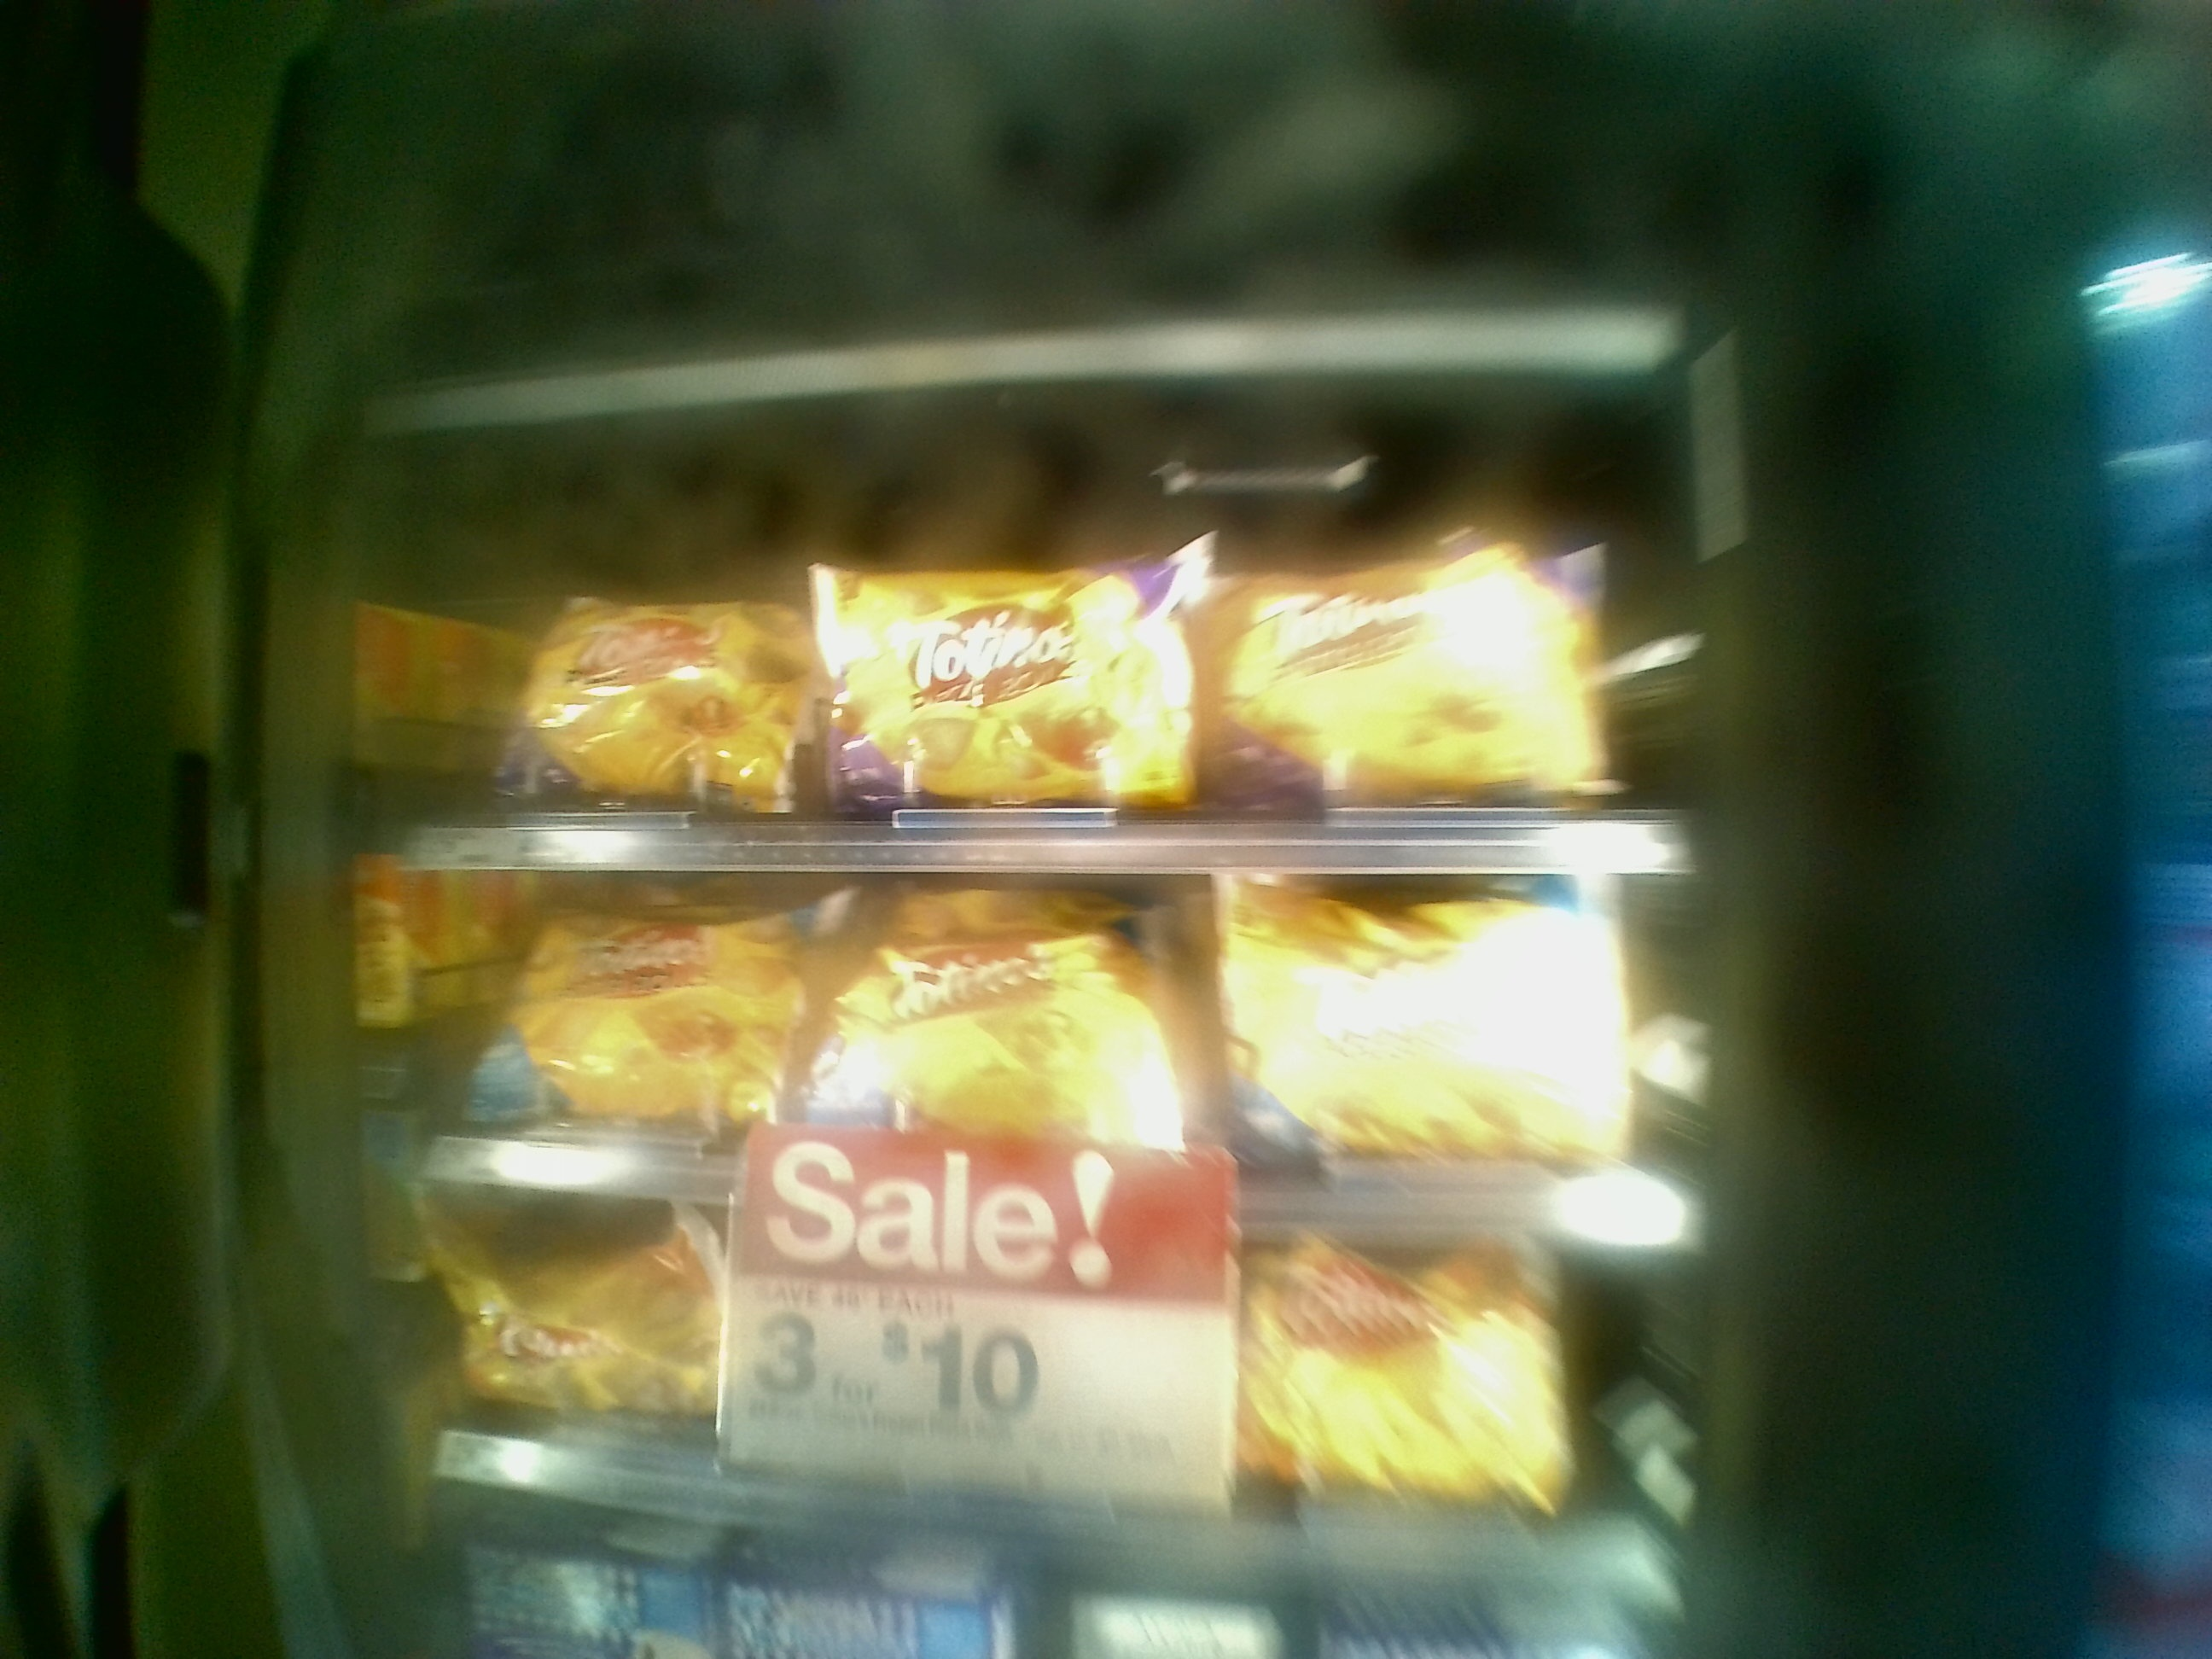shelf: (355, 1185, 1684, 1577), (364, 833, 1698, 1220), (350, 502, 1655, 833)
